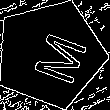M_W: (17, 23, 83, 85)
